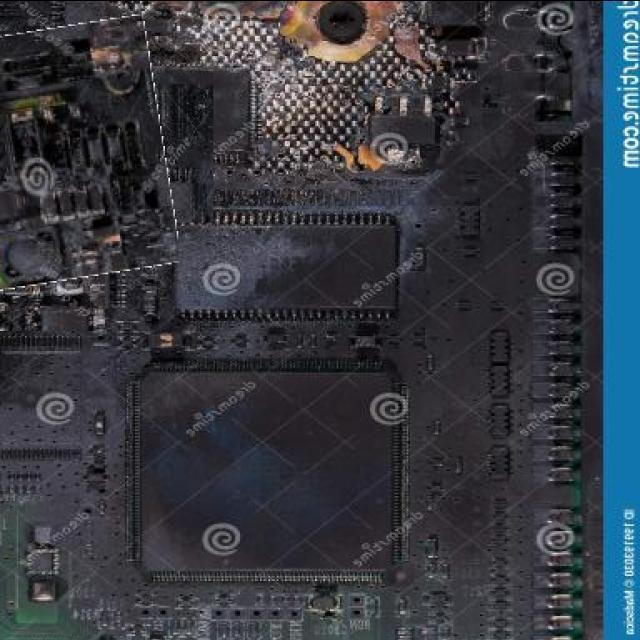Burn: (0, 20, 172, 286)
